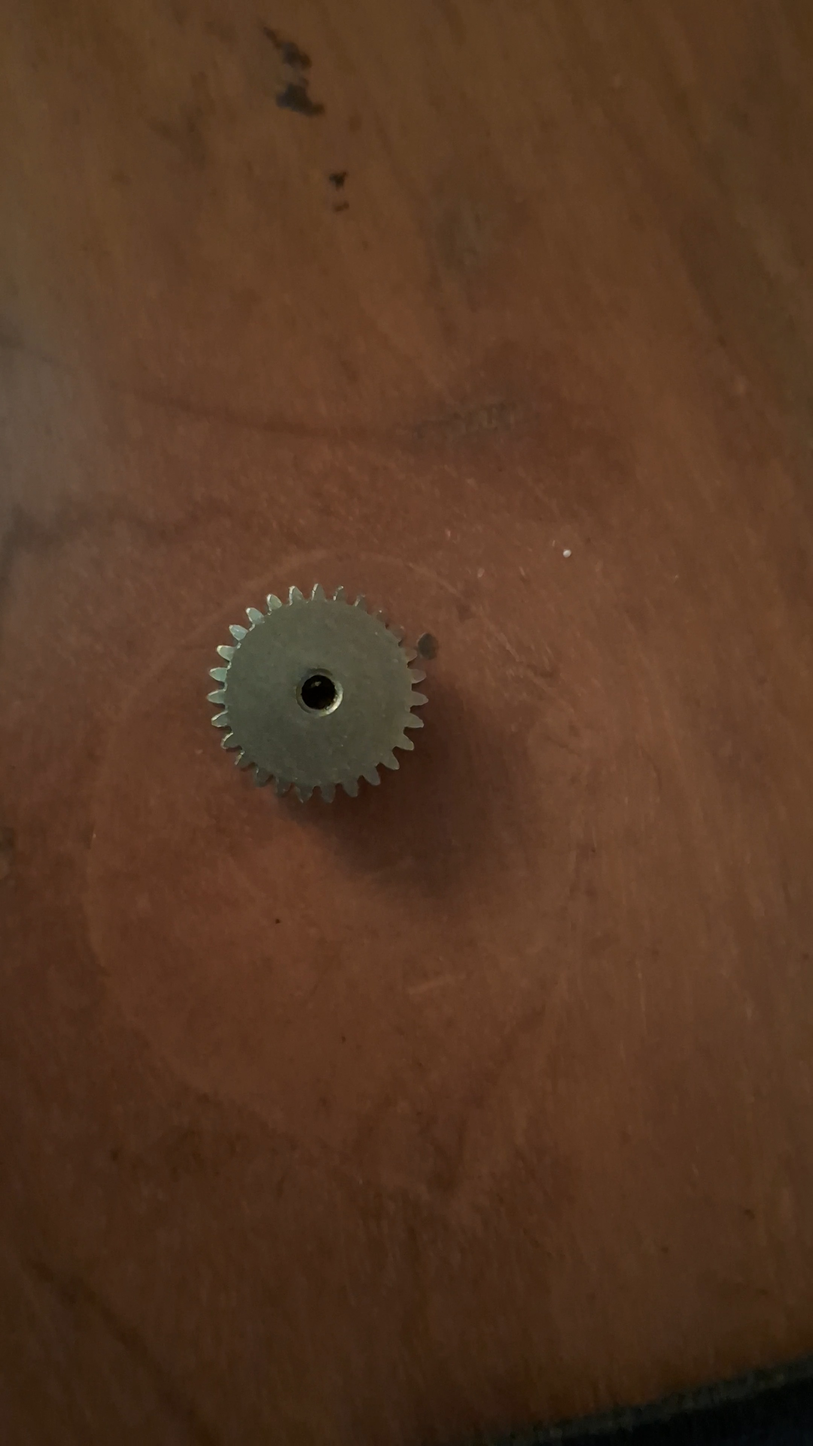spur gear: (209, 584, 426, 801)
